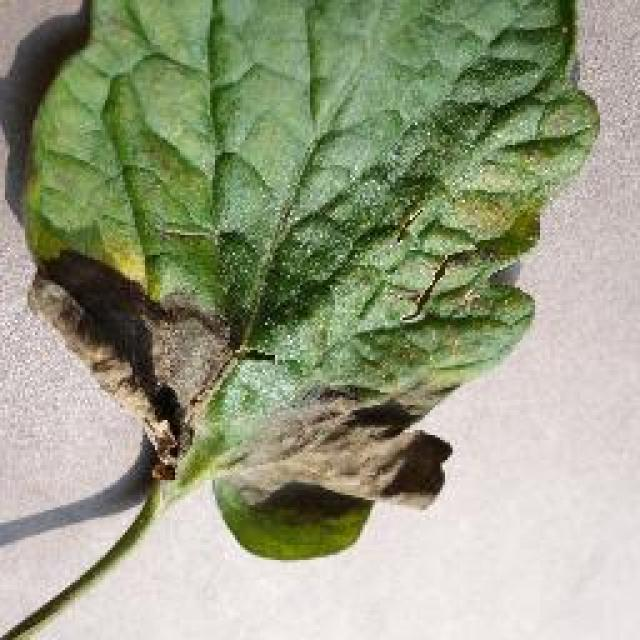leaf blight: (5, 0, 609, 640)
